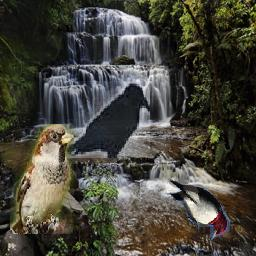Crow: (62, 82, 150, 159)
Sparrow: (10, 124, 74, 234)
Woodpecker: (166, 180, 231, 245)
